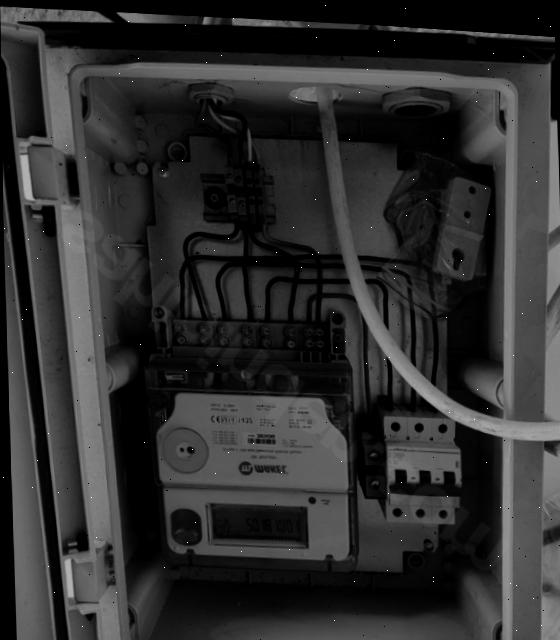electric-meter-detection: (143, 319, 355, 570)
